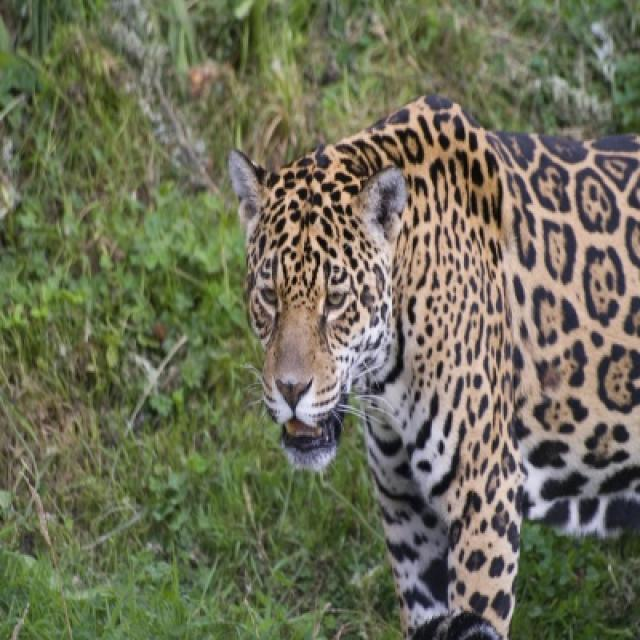Jaguar: (227, 96, 638, 638)
